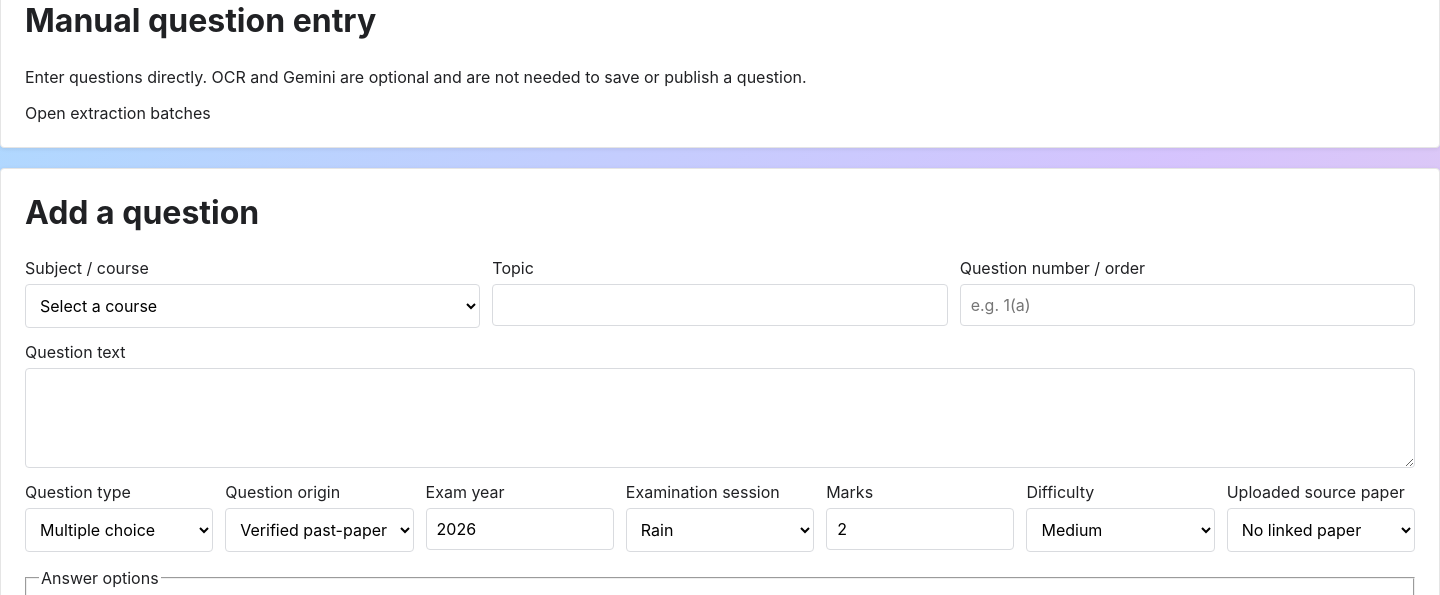
Test: manual question editor › saves an incomplete multiple-choice question as a draft without publishing
The width and height of the screenshot is (1440, 595).
Select "MAT101 — Mathematics" in the dropdown labelled "Subject / course" at (253, 306), box [25,284,480,328]
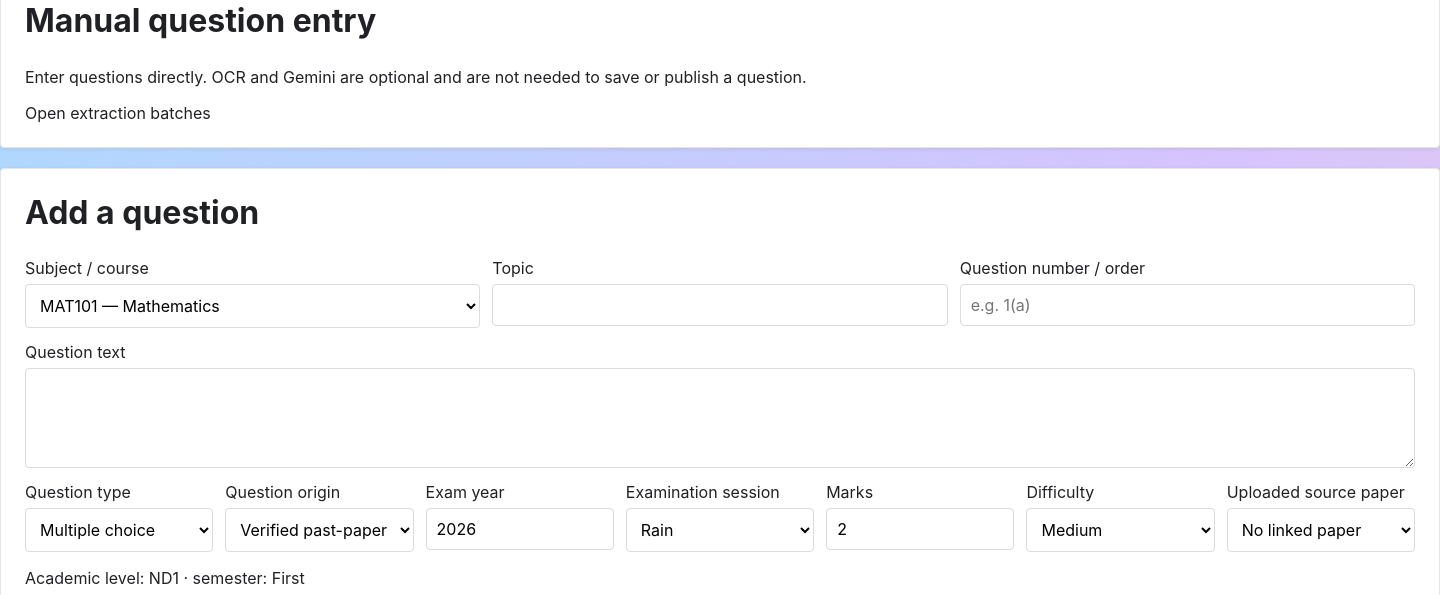
Type "Algebra" into the field labelled "Topic" at (720, 305), box [492,284,948,326]
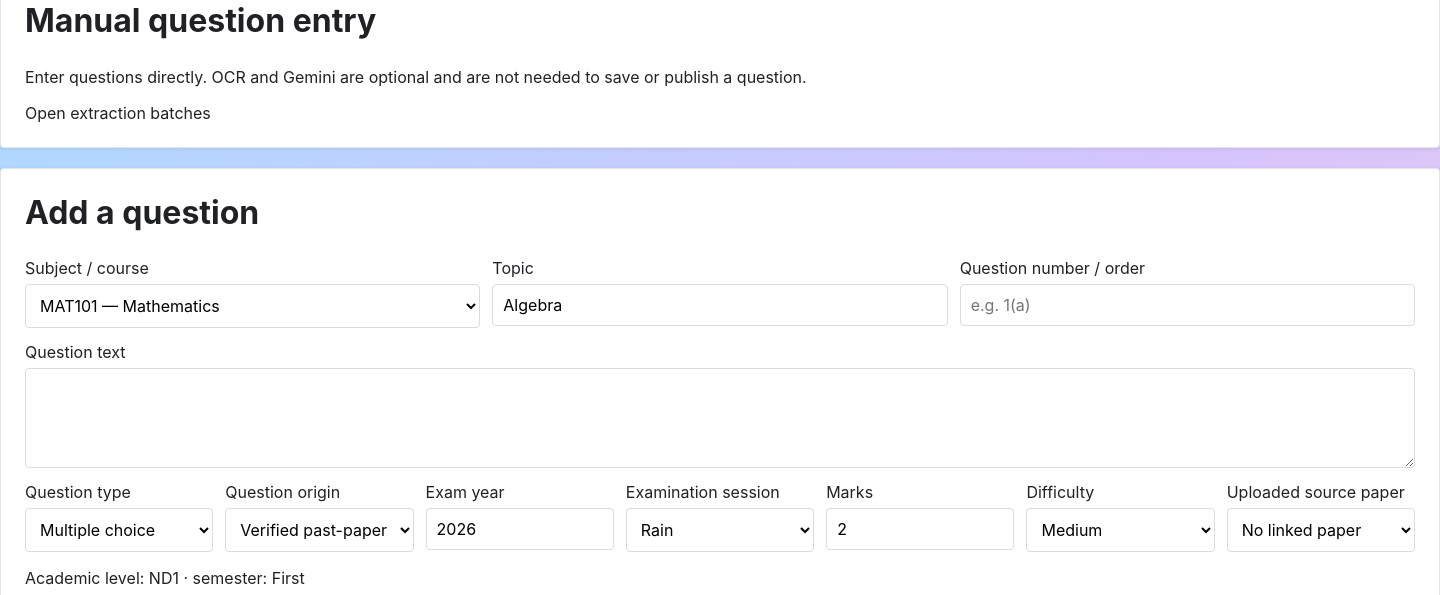
Type "Solve x + 2 = 4" into the text box labelled "Question text" at (720, 418), box [25,368,1415,468]
(page scrolled)
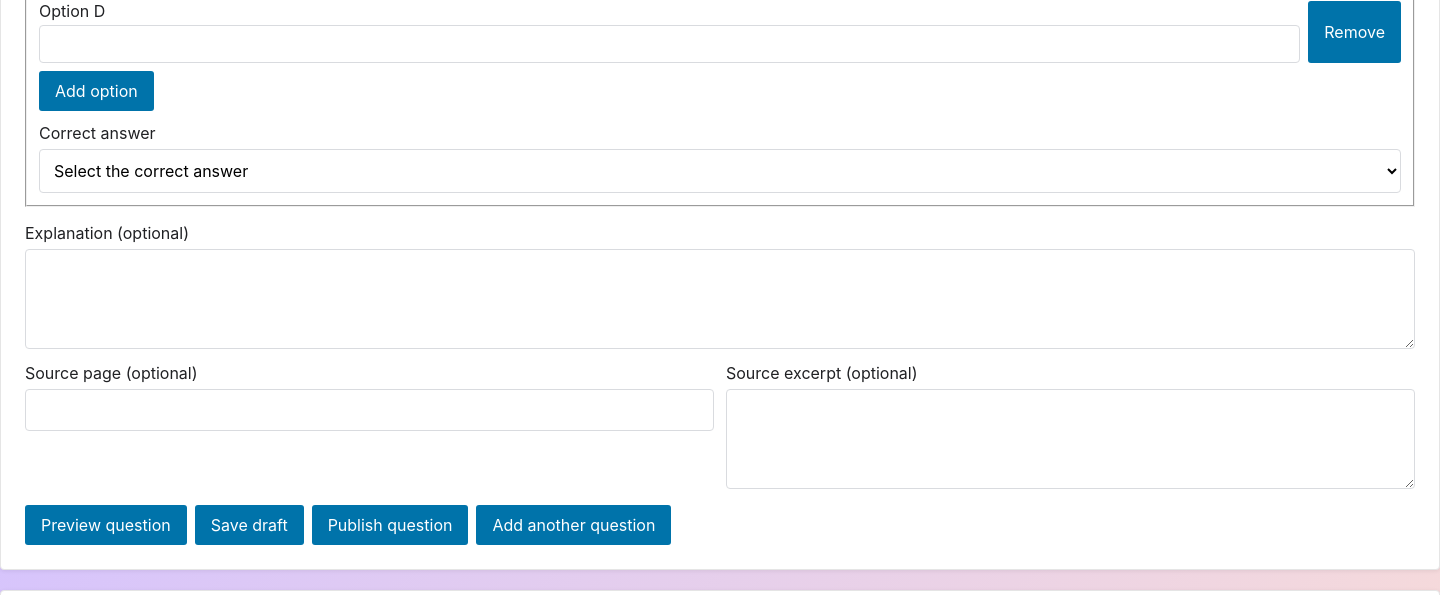
Click the button "Save draft" at (249, 525), box [195,505,304,545]
(page scrolled)
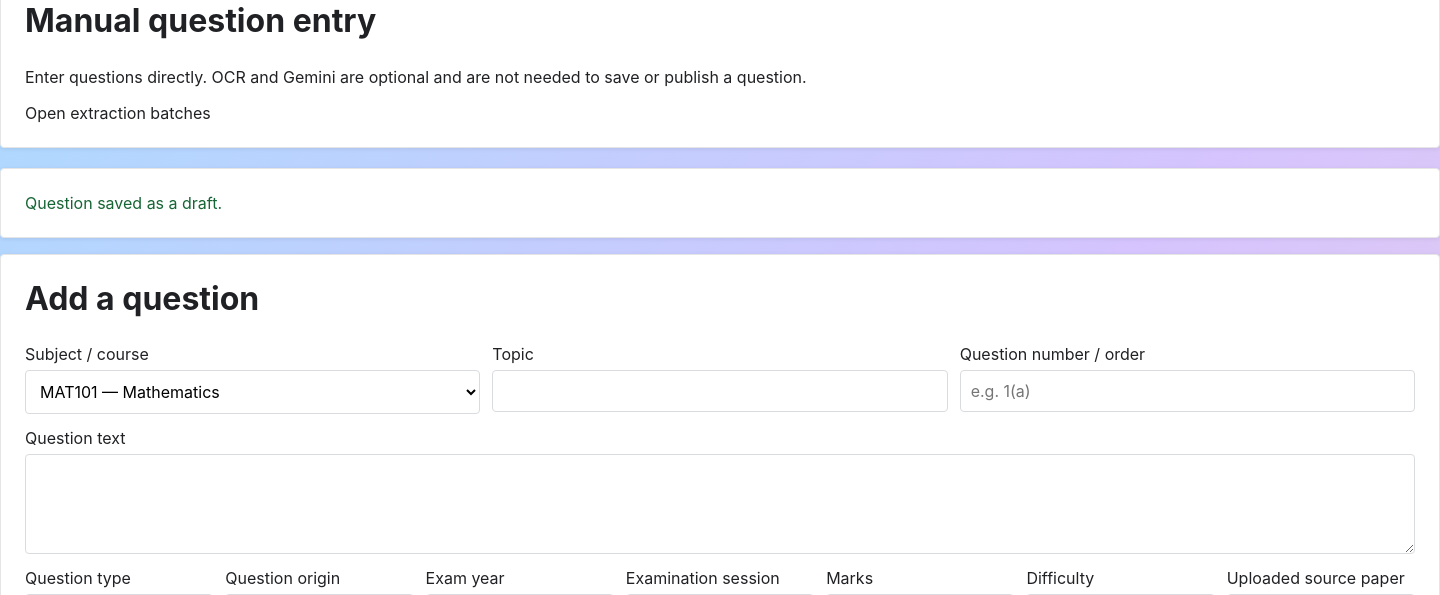
Expected: the message reads "Question saved as a draft.", [25,192,222,212]
